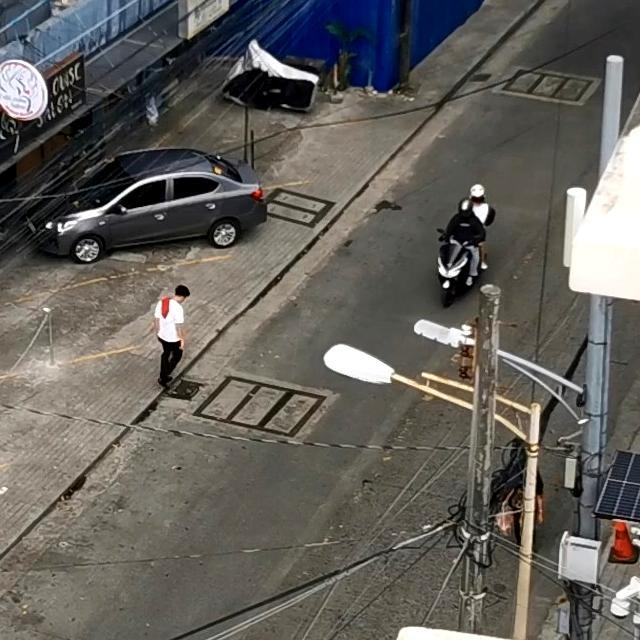Motorcycle: (402, 170, 508, 317)
